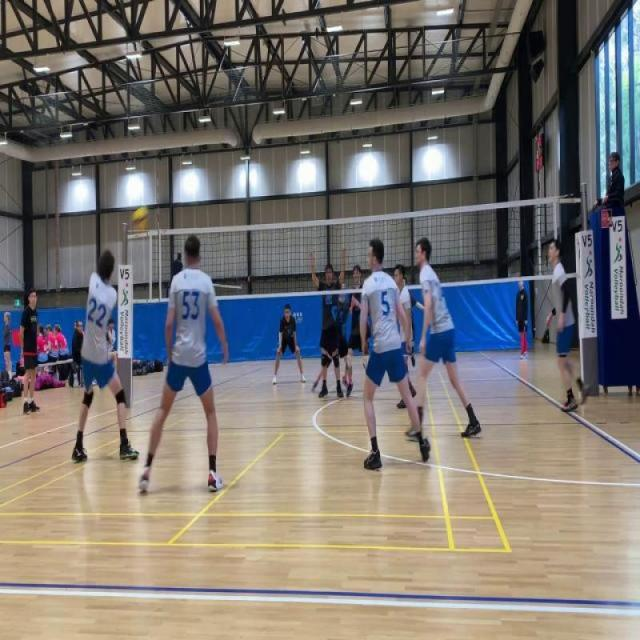volleyball: (131, 205, 150, 232)
